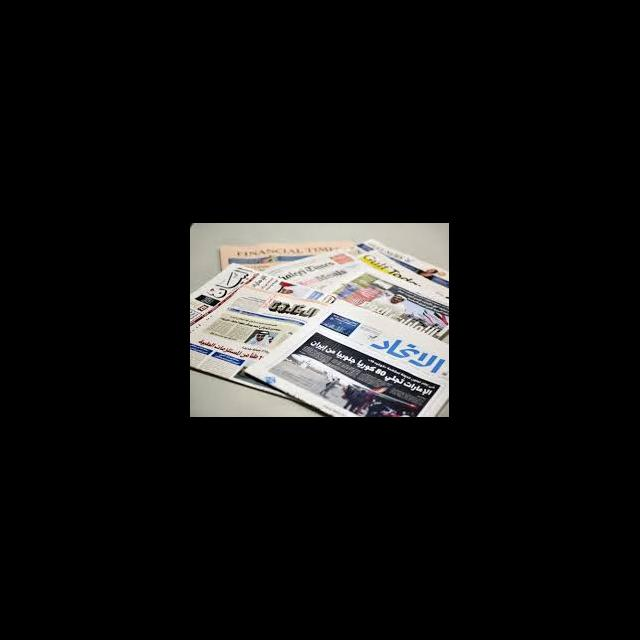paper: (244, 298, 448, 416), (190, 287, 326, 405), (262, 248, 448, 310), (192, 261, 338, 336), (321, 264, 448, 338), (218, 240, 352, 274), (354, 237, 448, 285), (361, 250, 448, 295)
